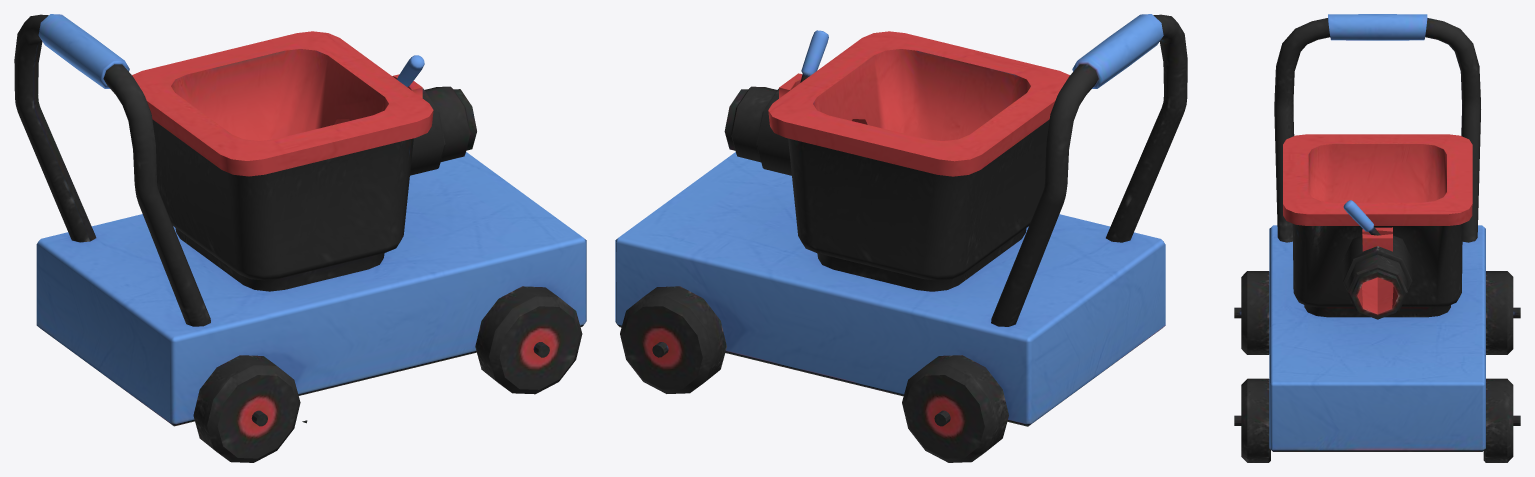
File: MayBanBong.fbx
The picture shows the model from 3 angles, left to right: view 1: azimuth 30°, elevation 25°; view 2: azimuth 150°, elevation 25°; view 3: azimuth 270°, elevation 25°; orthographic projection. The views are drawn at different scales.
Parts seen in each view (by area): view 1: MayBanBong; view 2: MayBanBong; view 3: MayBanBong.
Boxes of the visible parts, bbox=[...] form: MayBanBong: bbox=[14, 14, 586, 462]; MayBanBong: bbox=[615, 14, 1187, 462]; MayBanBong: bbox=[1234, 14, 1520, 462].
Size of the model in its own units: 19.61 by 16.07 by 14.59.
Materials: 1 (1 with a texture image).
